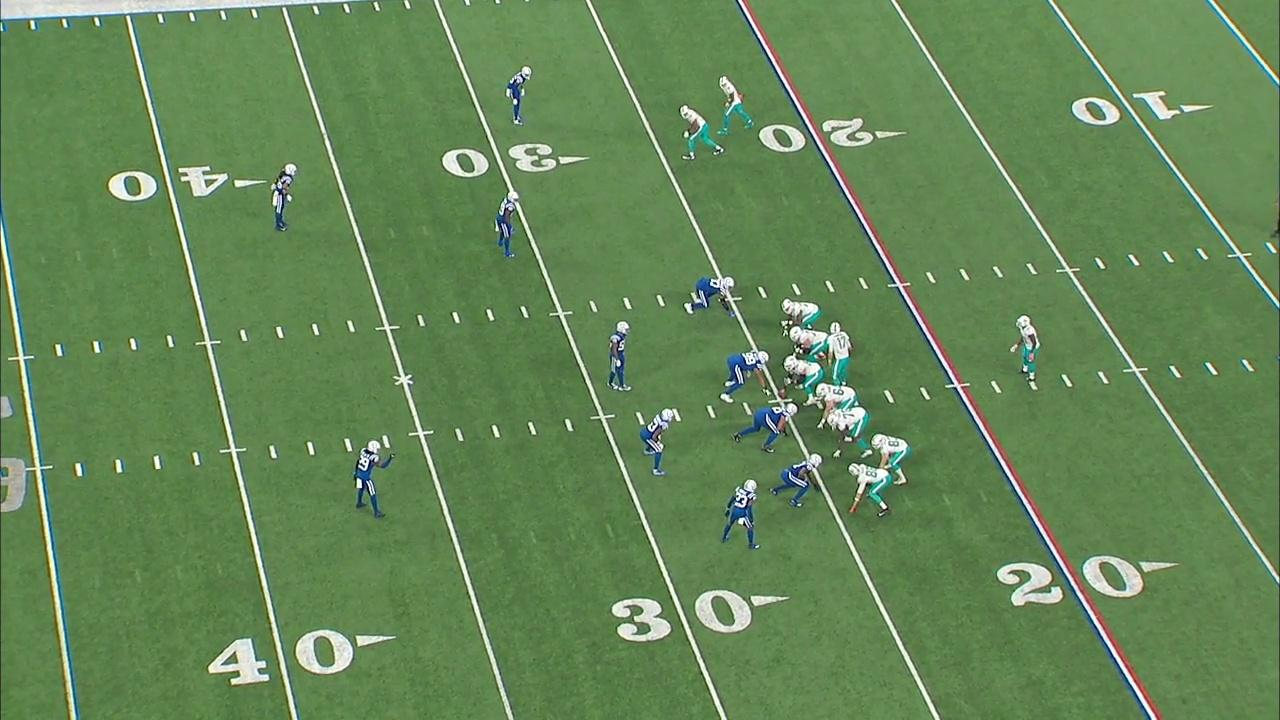defense: (727, 401, 798, 457), (353, 439, 397, 515), (719, 477, 762, 548), (718, 349, 771, 404), (638, 408, 677, 478), (774, 455, 823, 508), (269, 159, 302, 231), (686, 273, 737, 318), (492, 189, 523, 262), (607, 317, 633, 399), (510, 65, 536, 131)
oline: (779, 355, 824, 406), (825, 410, 872, 457), (815, 383, 858, 429), (780, 299, 819, 336), (787, 327, 829, 361)
qb: (826, 322, 852, 382)
skill: (676, 104, 725, 160), (844, 463, 891, 516), (869, 431, 912, 485), (718, 75, 754, 136), (1013, 314, 1039, 380)
